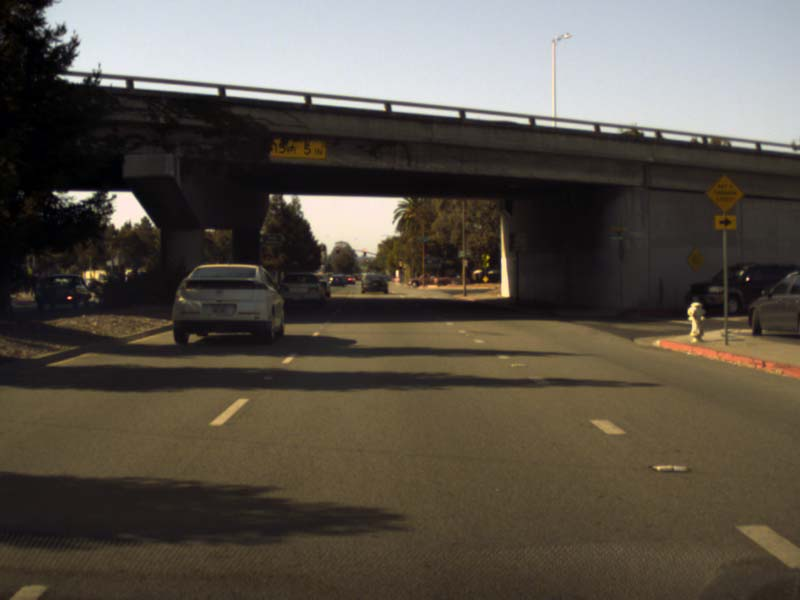Yellow: (365, 257, 371, 265)
